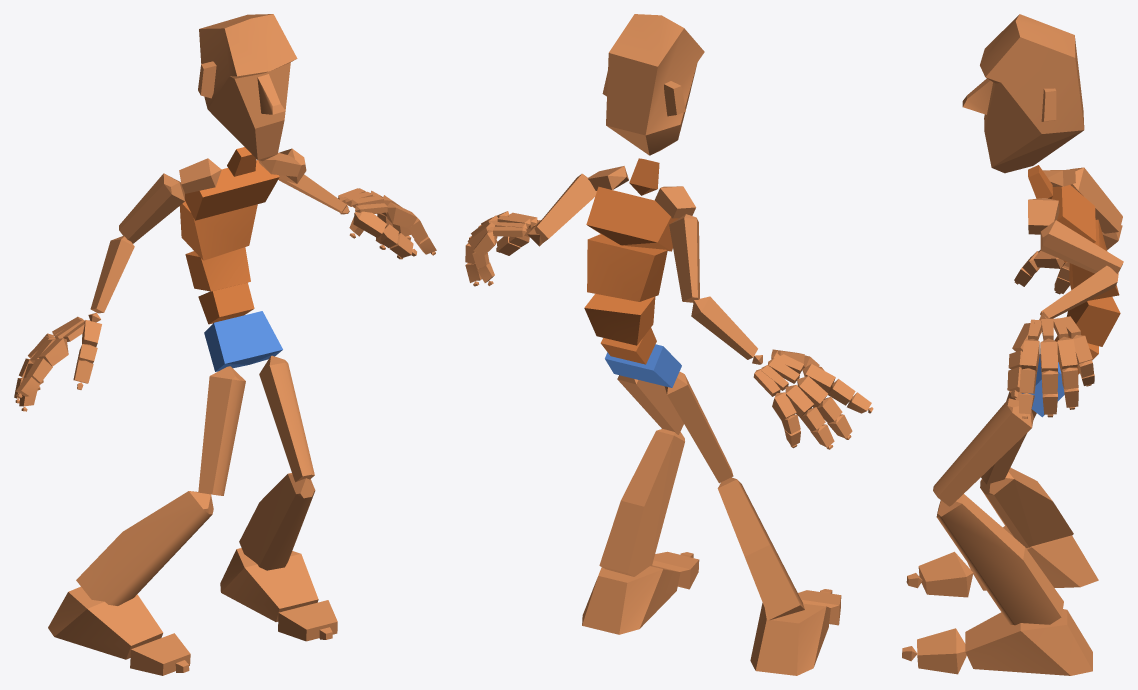
The model's file is prueba67.obj.
3 renders of one model, left to right at view 1: azimuth 30°, elevation 25°; view 2: azimuth 150°, elevation 25°; view 3: azimuth 270°, elevation 25°, orthographic. The views are drawn at different scales.
Visible parts, largest first — view 1: BOPED_Head, BOPED_R_leg, BOPED_R_foot, BOPED_L_leg, BOPED_R_foot01, BOPED_R_legup, BOPED_L_legup, Bone01, Bone04, Bone05, BOPED_R_arm_upper, Bone03 (+8 smaller); view 2: BOPED_Head, BOPED_L_leg, BOPED_R_foot01, BOPED_R_leg, BOPED_R_foot, Bone04, Bone05, Bone03, BOPED_R_legup, BOPED_R_arm_upper, Bone01, BOPED_R_arm_fore (+8 smaller); view 3: BOPED_Head, BOPED_L_leg, BOPED_R_foot01, BOPED_R_leg, BOPED_L_legup, BOPED_R_foot, BOPED_L_arm_upper, BOPED_R_foot_toe01, BOPED_R_foot_toe04, Bone03, Bone05, BOPED_L_arm_fore (+15 smaller).
Boxes of the visible parts, box(x1,y1,x2,y2) form: BOPED_Head: box(198, 14, 297, 161); BOPED_R_leg: box(76, 491, 213, 605); BOPED_R_foot: box(48, 586, 163, 659); BOPED_L_leg: box(239, 473, 315, 570); BOPED_R_foot01: box(220, 548, 318, 621); BOPED_R_legup: box(198, 366, 245, 495); BOPED_L_legup: box(259, 355, 314, 482); Bone01: box(204, 311, 282, 371); Bone04: box(179, 201, 257, 260); Bone05: box(185, 160, 279, 220); BOPED_R_arm_upper: box(119, 173, 184, 243); Bone03: box(185, 247, 250, 291); BOPED_Head: box(602, 14, 704, 155); BOPED_L_leg: box(599, 429, 684, 576); BOPED_R_foot01: box(582, 565, 680, 634); BOPED_R_leg: box(717, 477, 804, 619); BOPED_R_foot: box(750, 603, 830, 675); Bone04: box(587, 234, 667, 301); Bone05: box(586, 186, 678, 251); Bone03: box(584, 294, 655, 345); BOPED_R_legup: box(664, 371, 733, 483); BOPED_R_arm_upper: box(669, 214, 699, 302); Bone01: box(605, 344, 681, 387); BOPED_R_arm_fore: box(691, 296, 757, 359); BOPED_Head: box(962, 14, 1084, 173); BOPED_L_leg: box(936, 494, 1063, 625); BOPED_R_foot01: box(965, 609, 1092, 675); BOPED_R_leg: box(980, 467, 1073, 547); BOPED_L_legup: box(933, 398, 1033, 506); BOPED_R_foot: box(968, 526, 1098, 590); BOPED_L_arm_upper: box(1040, 220, 1123, 273); BOPED_R_foot_toe01: box(918, 551, 973, 597); BOPED_R_foot_toe04: box(917, 628, 966, 674); Bone03: box(1066, 296, 1120, 346); Bone05: box(1051, 185, 1096, 262); BOPED_L_arm_fore: box(1040, 265, 1118, 318).
Bounding box in the file's own units: 130 × 179 × 57.32.
